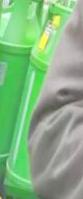cylinder: (1, 1, 83, 199)
